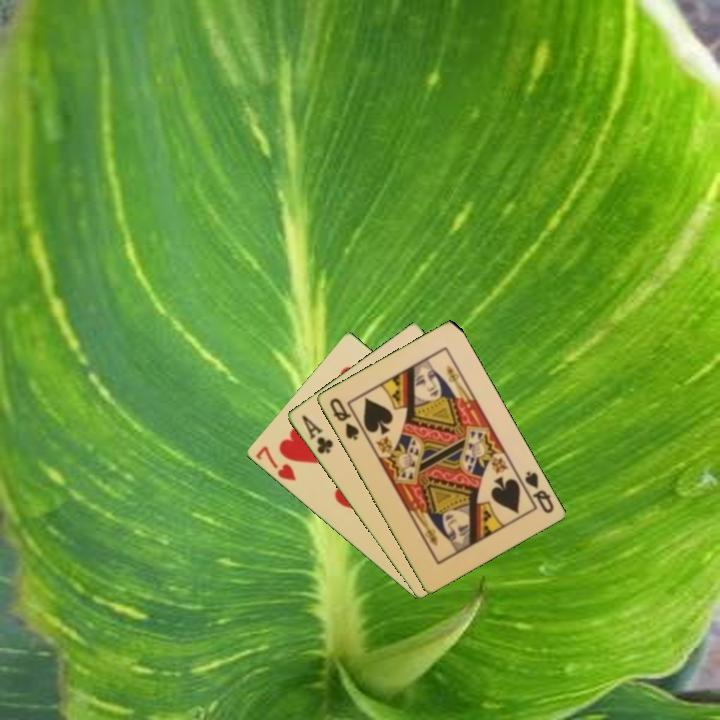7h: (252, 442, 299, 484)
Ac: (298, 411, 336, 457)
Qs: (326, 394, 362, 443), (521, 468, 556, 516)
